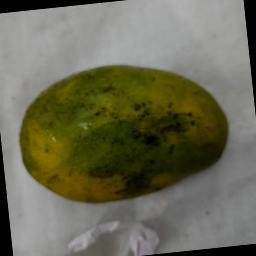Mango Unripe: (2, 0, 249, 256)
